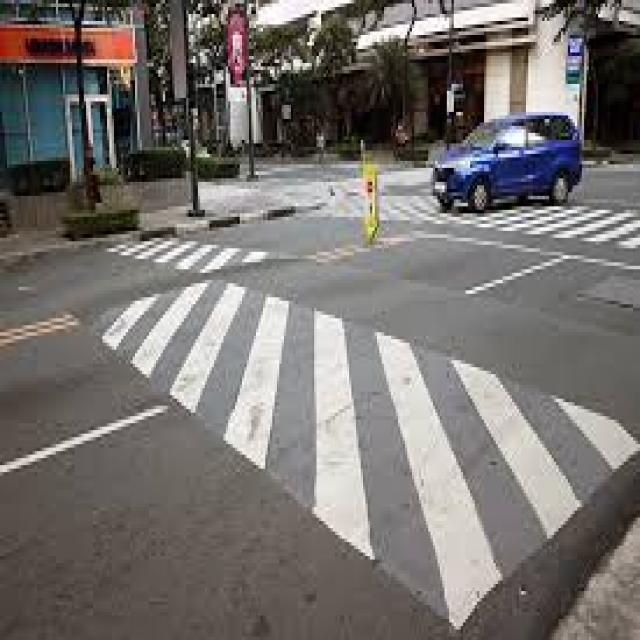speedbreaker: (84, 239, 630, 572)
